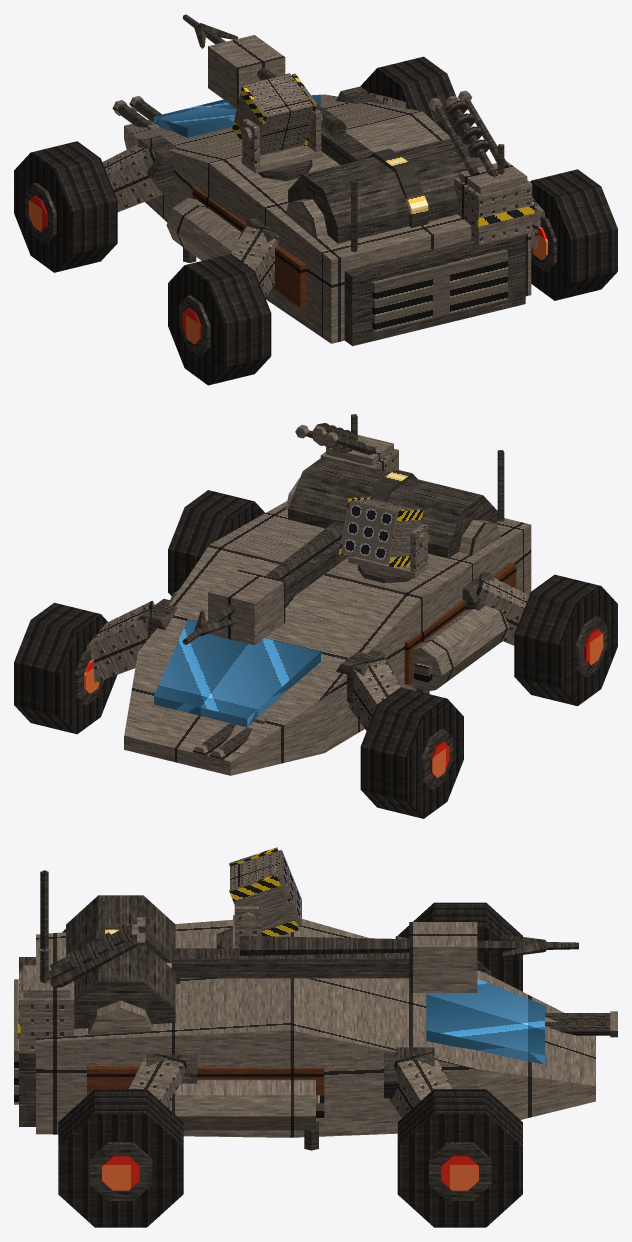
Rendered from dingo.glb.
3 views of the same model, one above another, from view 1: azimuth 30°, elevation 25°; view 2: azimuth 150°, elevation 25°; view 3: azimuth 270°, elevation 25° (orthographic). The views are drawn at different scales.
Parts seen in each view (by area): view 1: body, capacitor, wheel, wheel.002, wheel.003, tail_vent, tail_plate, wheel.001, rack, launch_head, coolant_tank, coil_cabinet (+23 smaller); view 2: body, visor, wheel, wheel.002, capacitor, wheel.001, wheel.003, coolant_tank, launch_head, swing_arm.001, rack_face, swing_arm (+17 smaller); view 3: body, wheel.003, wheel.001, capacitor, visor, coolant_tank.001, rail, launch_head, dart, wheel, flank_stripe.001, coil_cabinet (+22 smaller).
Boxes of the visible parts, x1,y1,x2,y2 form: body: (124,94,531,343); capacitor: (288,136,483,243); wheel: (14,141,117,272); wheel.002: (168,254,271,385); wheel.003: (530,169,617,300); tail_vent: (372,249,507,332); tail_plate: (344,234,525,346); wheel.001: (360,56,463,136); rack: (243,74,313,155); launch_head: (208,35,285,108); coolant_tank: (166,198,241,260); coil_cabinet: (454,177,532,245); body: (124,501,531,775); visor: (154,619,320,727); wheel: (360,687,463,818); wheel.002: (514,574,617,706); capacitor: (288,456,497,558); wheel.001: (14,602,117,734); wheel.003: (168,490,264,596); coolant_tank: (409,606,509,691); launch_head: (208,570,285,645); swing_arm.001: (87,600,154,682); rack_face: (341,501,396,564); swing_arm: (349,657,400,730); body: (36,919,595,1137); wheel.003: (58,1089,183,1227); wheel.001: (397,1089,522,1227); capacitor: (66,895,175,1028); visor: (426,979,544,1064); coolant_tank.001: (169,1079,315,1130); rail: (171,948,409,978); launch_head: (409,922,477,992); dart: (239,935,578,955); wheel: (398,902,522,991); flank_stripe.001: (87,1065,324,1095); coil_cabinet: (19,971,74,1053).
Size of the model in its own units: 60.6 by 30.32 by 71.2.
Materials: 12 (12 with a texture image).
